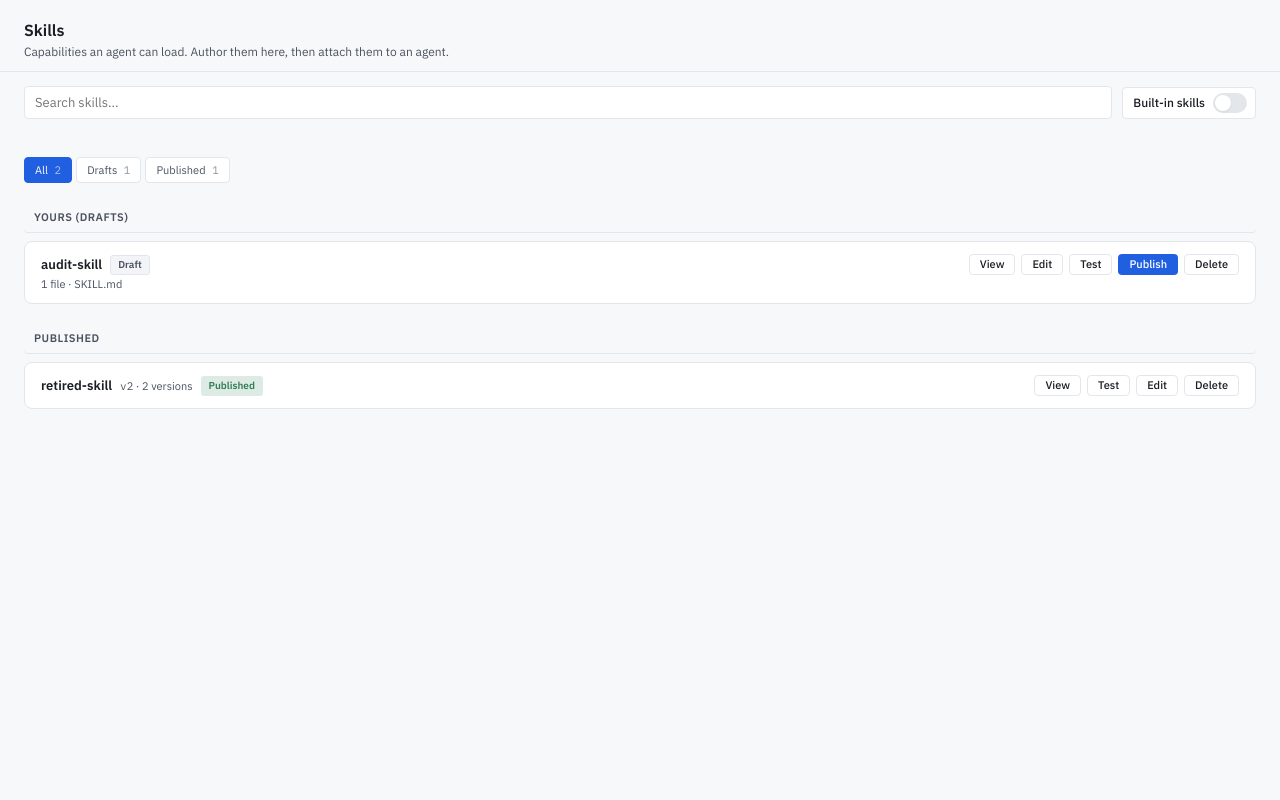
Test case: deleting a published skill › previews with a dry run, against the skill category, before destroying anything
Click the button "Delete" in the row of "versions" at (1212, 386), box [1184,375,1239,396]
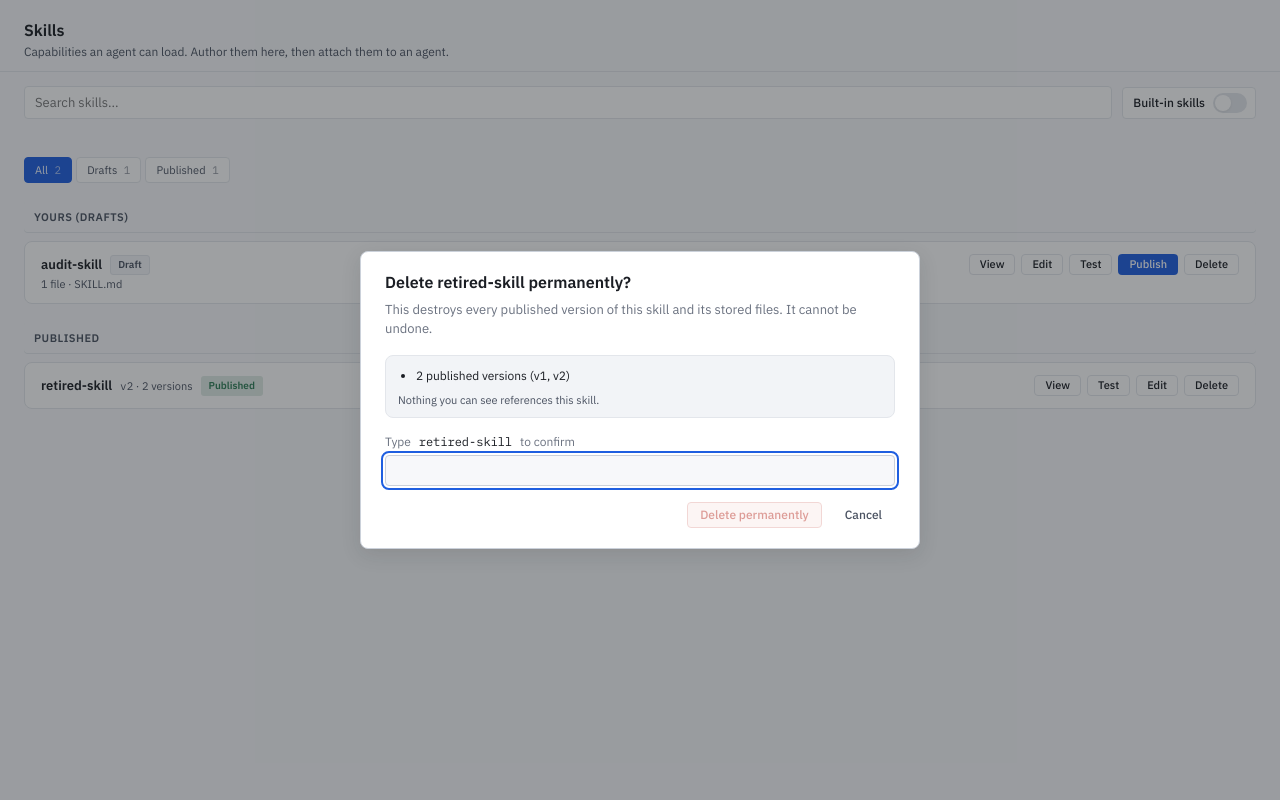
Result: the list item "2 published versions (v1, v2)" is shown at [416,368,570,383]
